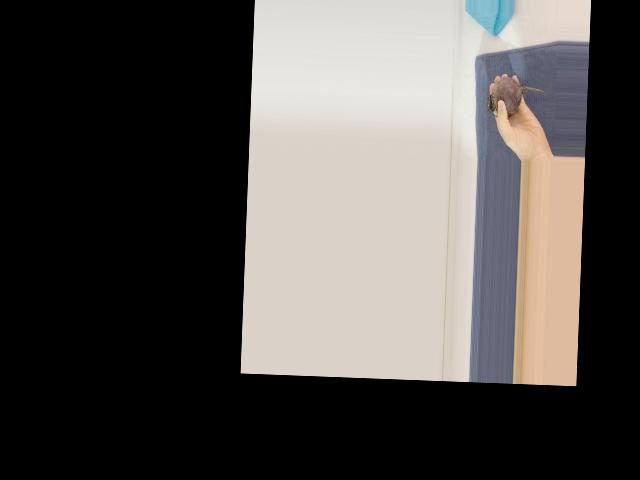beet: (486, 76, 545, 119)
